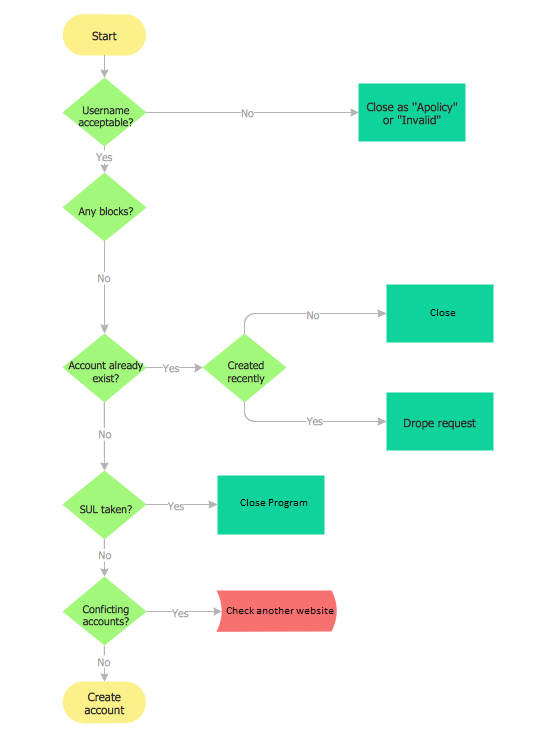arrow: (238, 396, 387, 428), (239, 309, 390, 339), (138, 106, 361, 121), (98, 235, 114, 335), (98, 399, 113, 478), (145, 606, 226, 620), (138, 497, 219, 511), (94, 537, 114, 578), (140, 361, 207, 373), (97, 643, 114, 680), (98, 52, 113, 80), (97, 141, 110, 171)
process: (381, 389, 498, 455), (354, 80, 471, 145), (213, 472, 328, 537), (382, 281, 498, 344), (213, 588, 340, 636)
terminator: (57, 10, 149, 59), (59, 678, 151, 726)
text: (64, 357, 146, 386), (224, 604, 336, 619), (76, 103, 138, 130), (79, 602, 134, 629), (223, 357, 271, 386), (237, 494, 310, 513), (81, 689, 128, 718), (399, 415, 479, 430), (76, 204, 136, 219), (76, 501, 132, 514), (88, 28, 120, 44), (426, 305, 457, 319), (302, 305, 324, 323), (303, 412, 326, 428), (163, 498, 186, 514), (94, 147, 115, 164), (160, 360, 180, 377), (169, 606, 190, 622), (94, 270, 113, 286), (95, 426, 114, 440), (94, 654, 115, 666), (95, 548, 114, 561), (239, 106, 256, 119)
